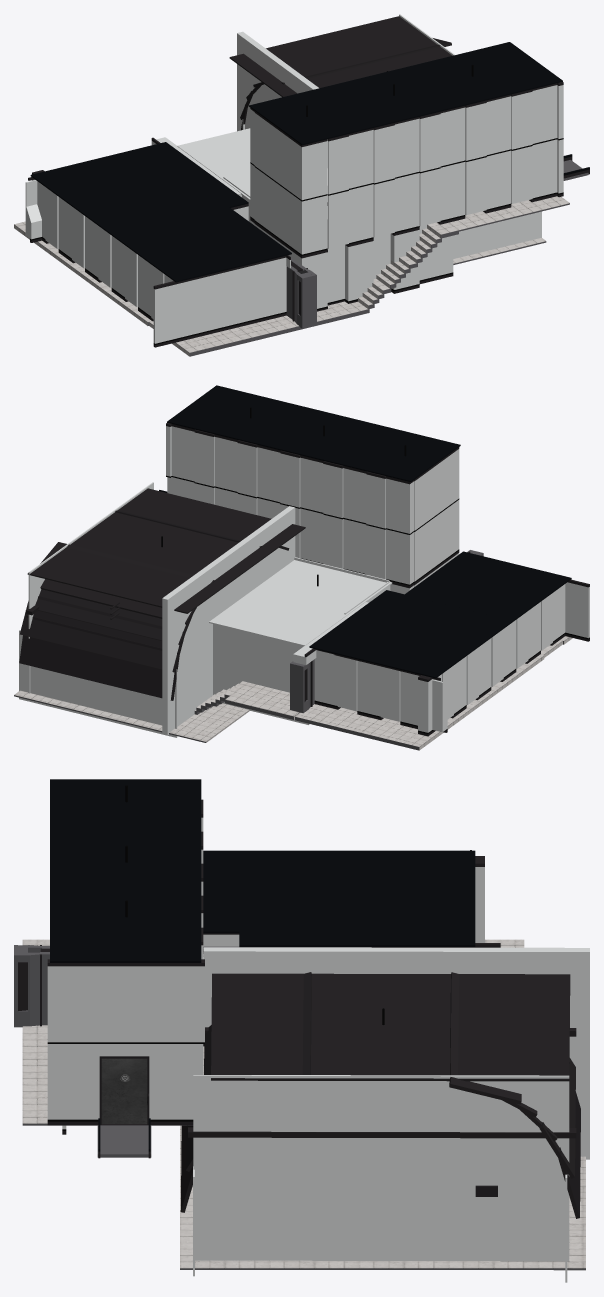
The model's file is SCP 079 Containment Chamber.obj.
The picture shows the model from 3 angles, top to bottom: view 1: azimuth 30°, elevation 25°; view 2: azimuth 150°, elevation 25°; view 3: azimuth 270°, elevation 25°; orthographic projection. The views are drawn at different scales.
Visible parts, largest first — view 1: Part59, Part171, Part223, Part188, Part707, Part69, Part266, Part180, Part167, Part224, Part150, Part178 (+40 smaller); view 2: Part223, Part59, Part171, Part69, Part188, Part150, Part627, Part129, Part82, Part626, Part102, Part161 (+42 smaller); view 3: Part221, Part223, Part59, Part171, Part72, Lcz079DoorSlot1, Part102, Part150, Part87, Part188, Door12, Part219 (+10 smaller).
Part boxes in pixels (left/top/right/bottom): Part59: left=249, top=42, right=562, bottom=145; Part171: left=30, top=142, right=248, bottom=236; Part223: left=229, top=16, right=451, bottom=97; Part188: left=113, top=207, right=291, bottom=282; Part707: left=153, top=257, right=286, bottom=343; Part69: left=177, top=128, right=250, bottom=200; Part266: left=327, top=225, right=453, bottom=302; Part180: left=254, top=167, right=302, bottom=254; Part167: left=254, top=113, right=302, bottom=199; Part224: left=453, top=211, right=541, bottom=258; Part150: left=237, top=31, right=290, bottom=131; Part178: left=176, top=301, right=367, bottom=352; Part223: left=27, top=488, right=305, bottom=613; Part59: left=167, top=385, right=460, bottom=481; Part171: left=309, top=590, right=512, bottom=678; Part69: left=209, top=560, right=392, bottom=646; Part188: left=405, top=551, right=571, bottom=621; Part150: left=162, top=565, right=212, bottom=735; Part627: left=19, top=615, right=179, bottom=700; Part129: left=19, top=630, right=177, bottom=737; Part82: left=213, top=624, right=309, bottom=724; Part626: left=20, top=596, right=185, bottom=672; Part102: left=208, top=506, right=295, bottom=618; Part161: left=302, top=654, right=543, bottom=746; Part221: left=193, top=1075, right=569, bottom=1261; Part223: left=211, top=973, right=570, bottom=1081; Part59: left=50, top=779, right=201, bottom=962; Part171: left=239, top=850, right=475, bottom=946; Part72: left=47, top=966, right=204, bottom=1042; Lcz079DoorSlot1: left=47, top=1044, right=200, bottom=1119; Part102: left=203, top=947, right=452, bottom=1027; Part150: left=452, top=947, right=589, bottom=1159; Part87: left=180, top=1125, right=585, bottom=1268; Part188: left=203, top=850, right=239, bottom=933; Door12: left=101, top=1058, right=147, bottom=1123; Part219: left=188, top=1127, right=576, bottom=1138.
Size of what is drawn, in the model's own units: 74.13 by 35.08 by 57.87.
Materials: 35 (10 with a texture image).
